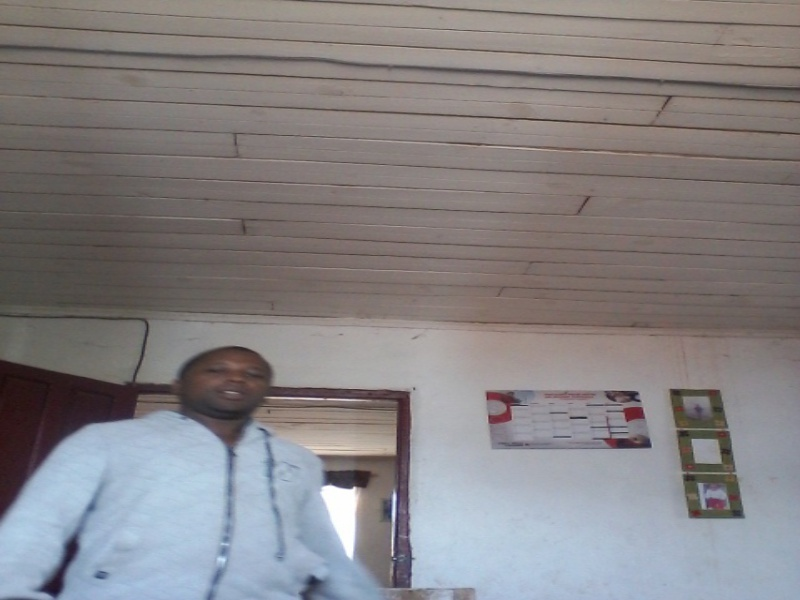TsisyArotava: (173, 337, 288, 433)
